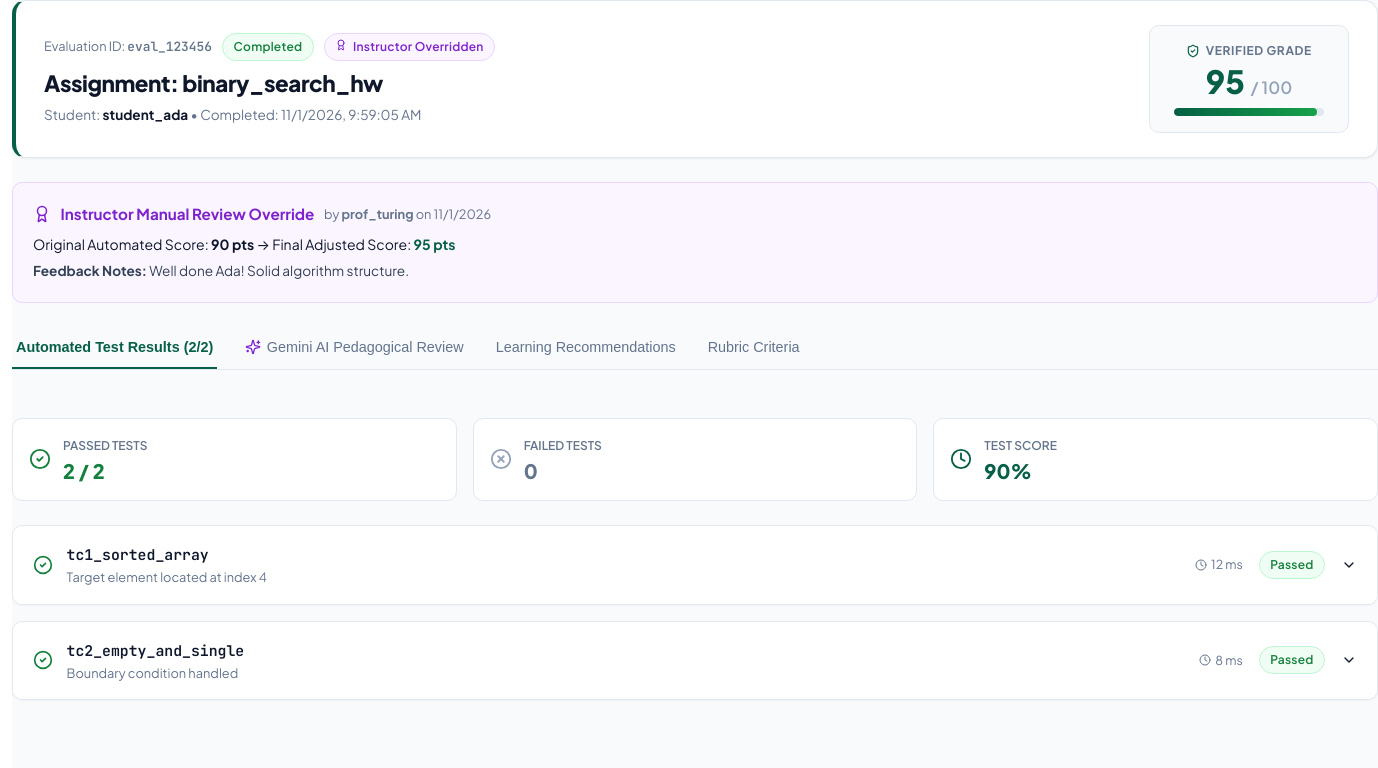
Test: Student Dashboard Components › renders EvaluationDetailView with deterministic score, test cases, and Gemini AI review
Expected: the heading "Assignment: binary_search_hw" is shown, [44,69,383,97]
Expected: the text "Instructor Overridden" is shown, [324,33,495,61]
# Switch to Gemini AI tab
Click the button "Gemini AI Pedagogical Review" at (354, 348), box [241,327,468,369]
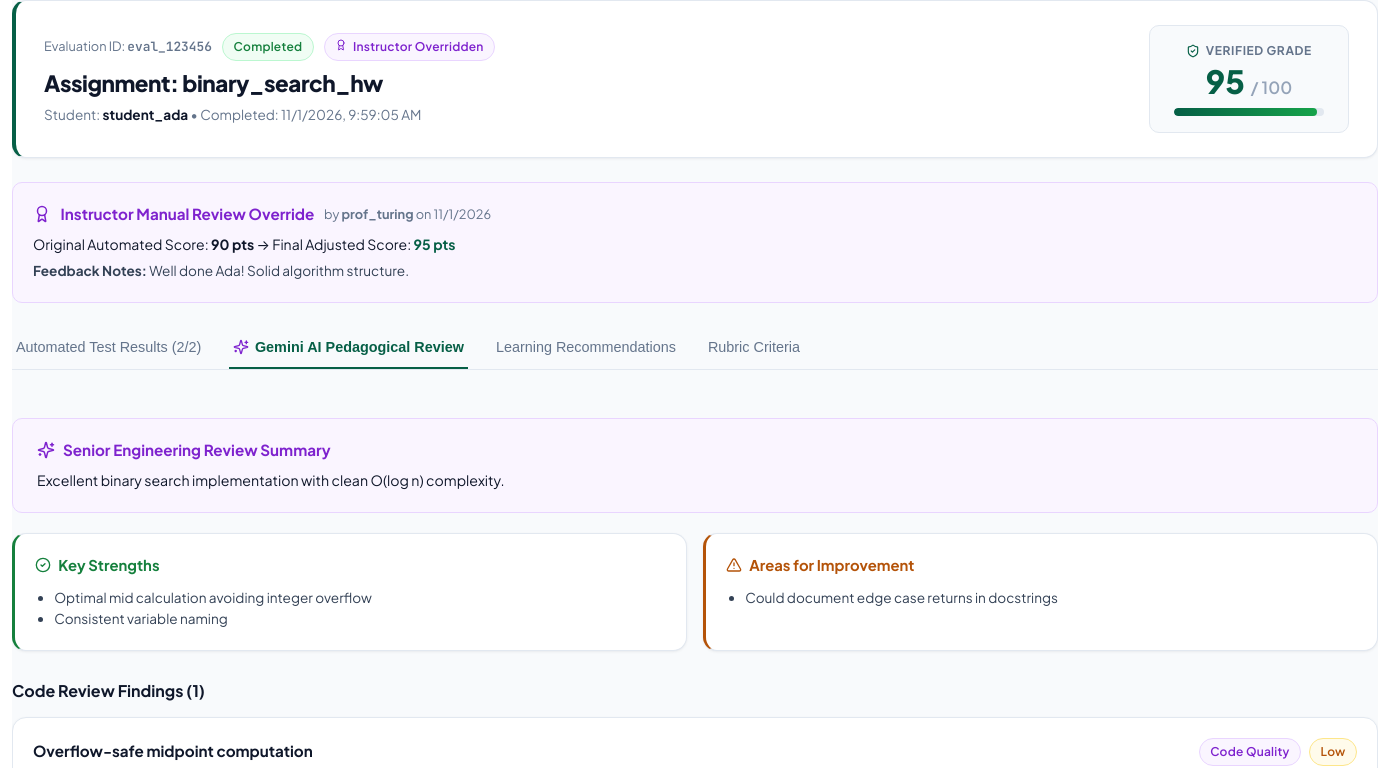
Expected: the text "Excellent binary search implementation" is shown, [37,471,505,489]
Expected: the list item "Optimal mid calculation avoiding integer overflow" is shown, [54,589,372,606]
Expected: the text "Overflow-safe midpoint computation" is shown, [33,740,313,763]
